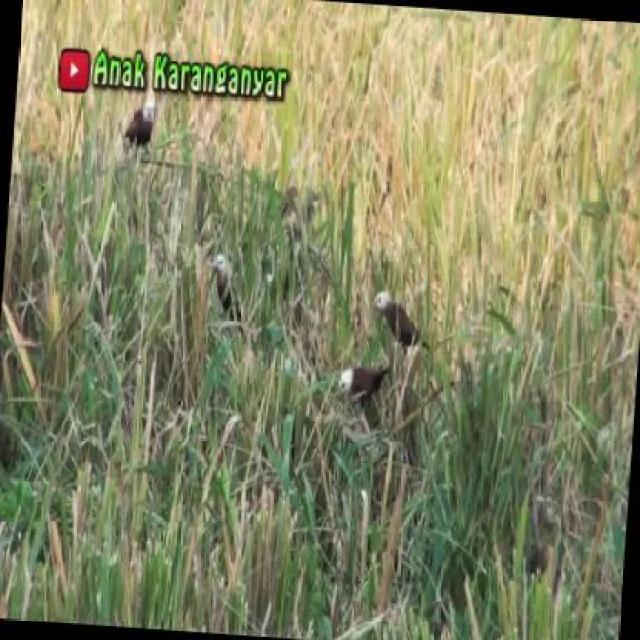Bird: (363, 286, 442, 356), (323, 356, 402, 405), (202, 242, 252, 311), (120, 82, 164, 151)
